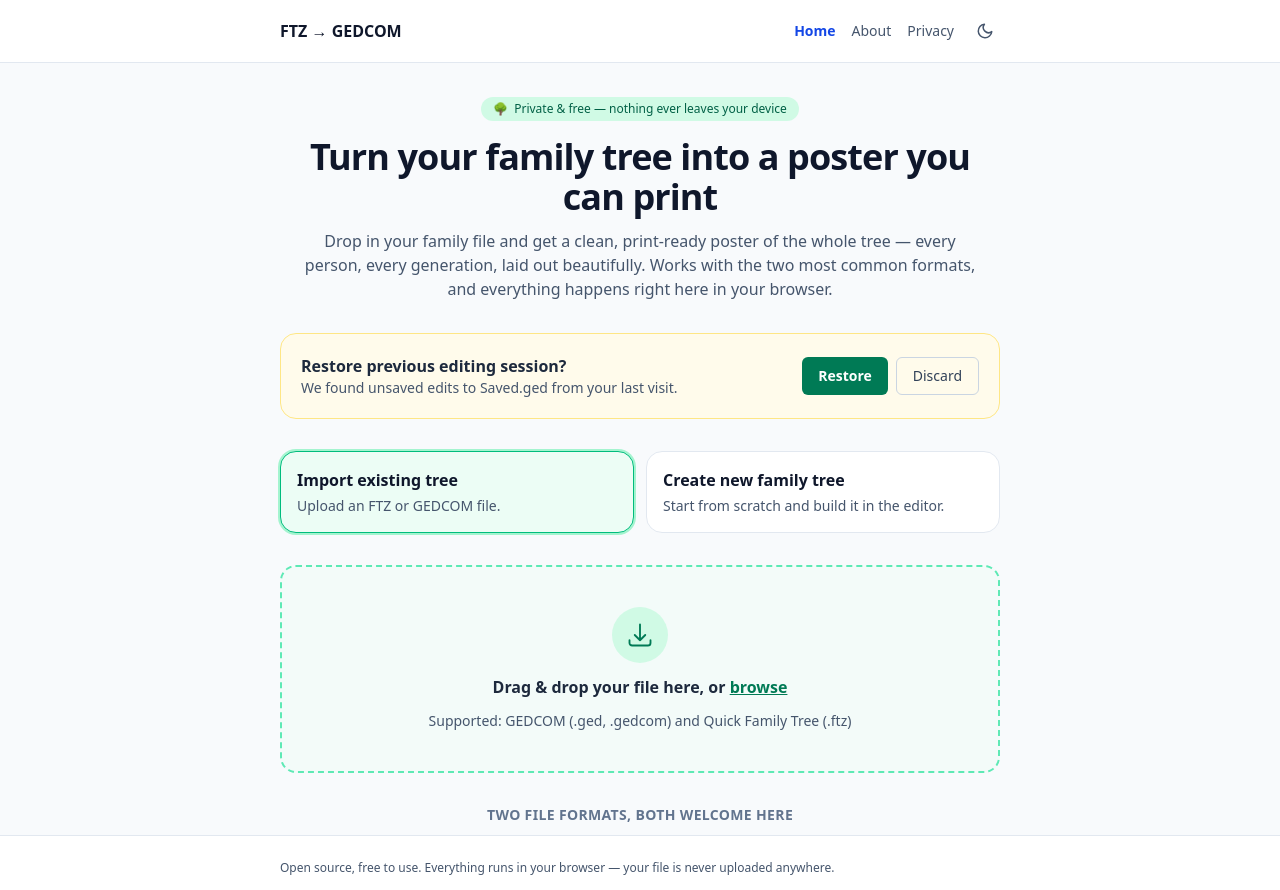
Test: Autosave restore › offers to restore a saved session and opens the editor on restore
expect the text "Restore previous editing session?" is shown: met, box x1=301 y1=355 x2=566 y2=377
expect the text "Saved.ged" is shown: met, box x1=480 y1=378 x2=548 y2=397
Click the button "Restore" at (845, 376), box x1=802 y1=357 x2=888 y2=395
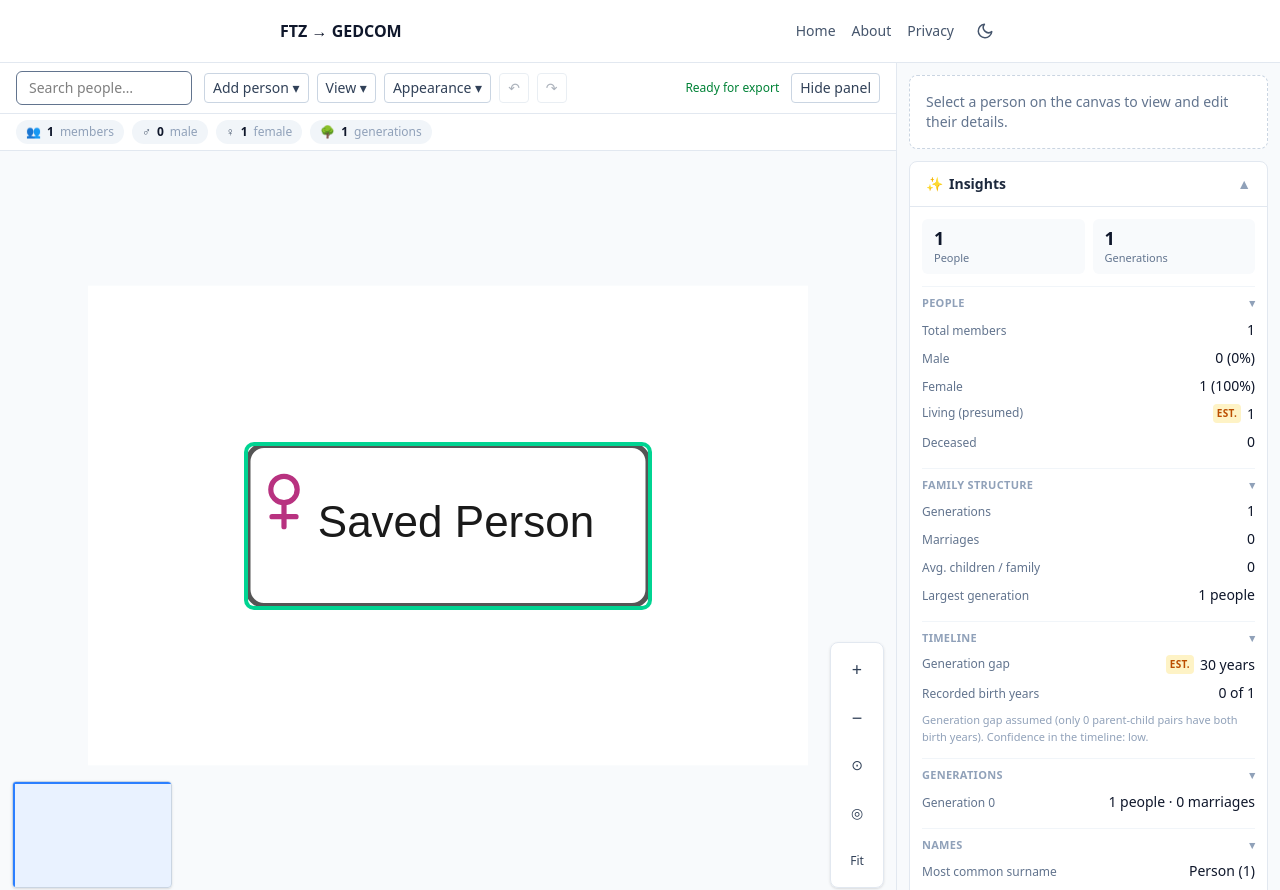
Type "Saved" into the dropdown labelled "Search people…" at (104, 88), box x1=16 y1=71 x2=192 y2=105
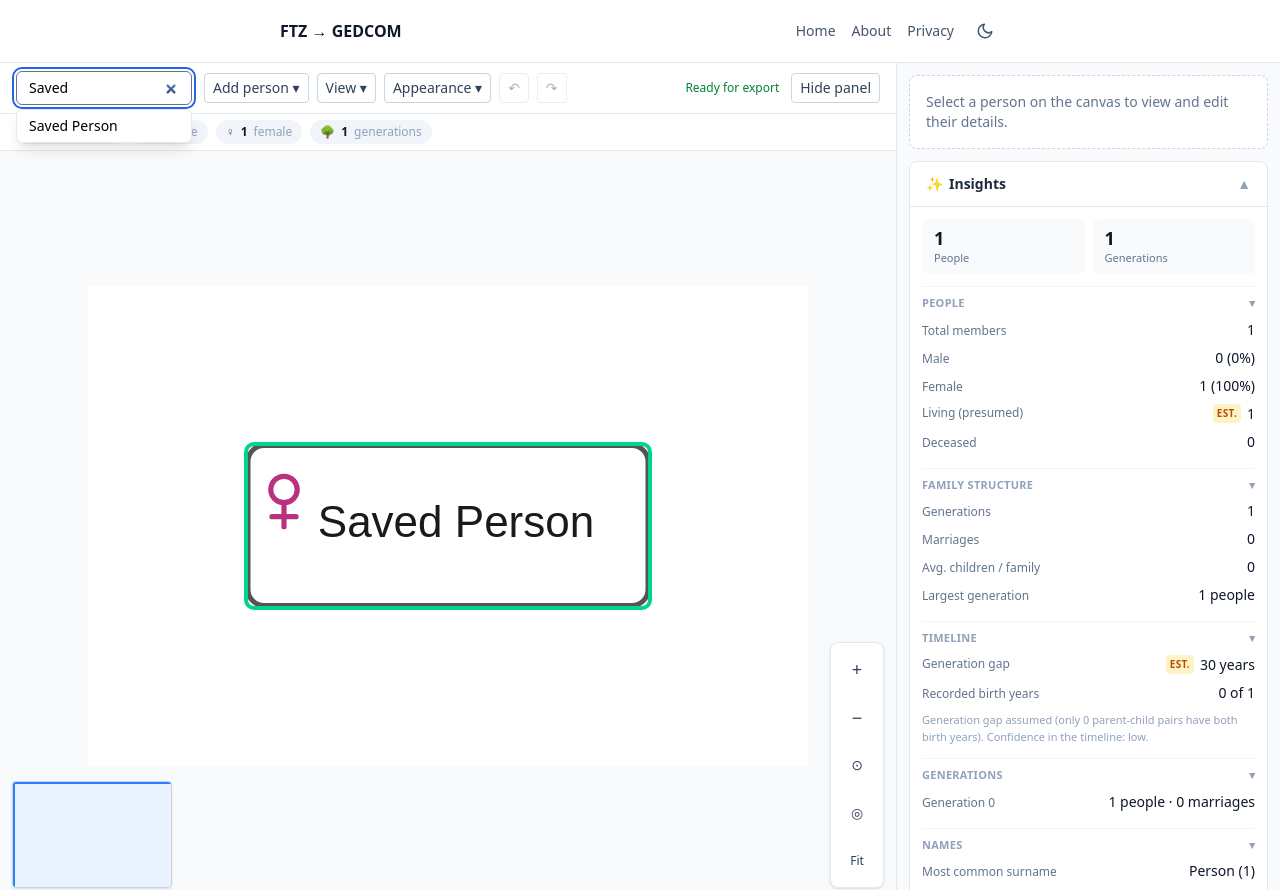
expect the option "Saved Person" is shown: met, box x1=17 y1=110 x2=191 y2=142
